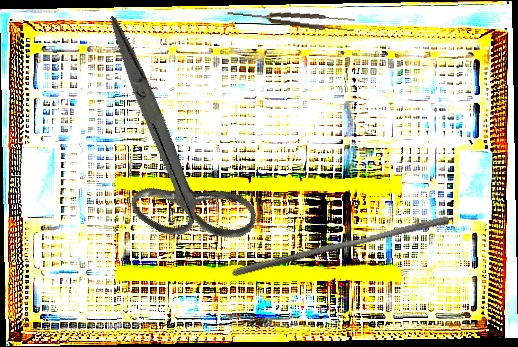Iris Scissors: (26, 15, 309, 274)
Pusher: (230, 207, 451, 286)
Tissue Forceps: (226, 4, 355, 34)
